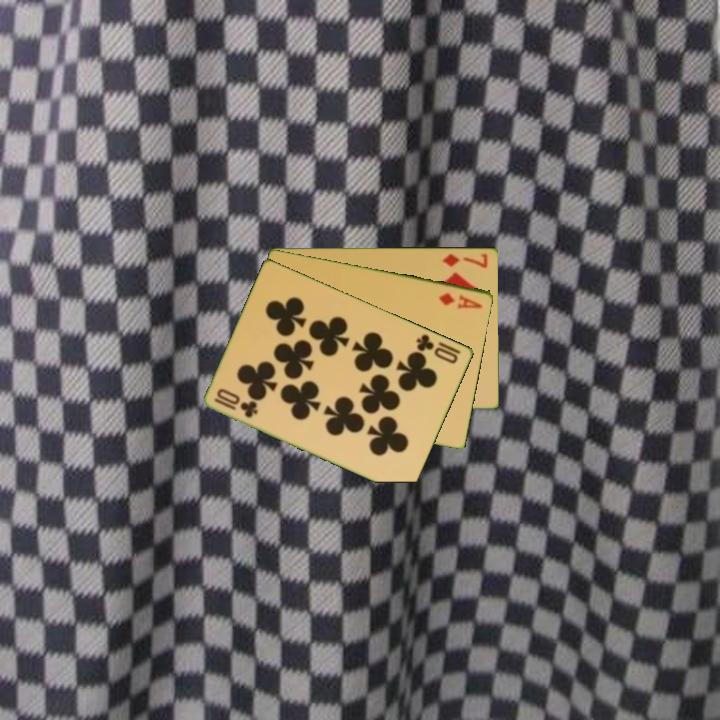10c: (413, 330, 461, 366), (211, 394, 261, 421)
7d: (439, 249, 491, 270)
Ad: (435, 289, 485, 311)
